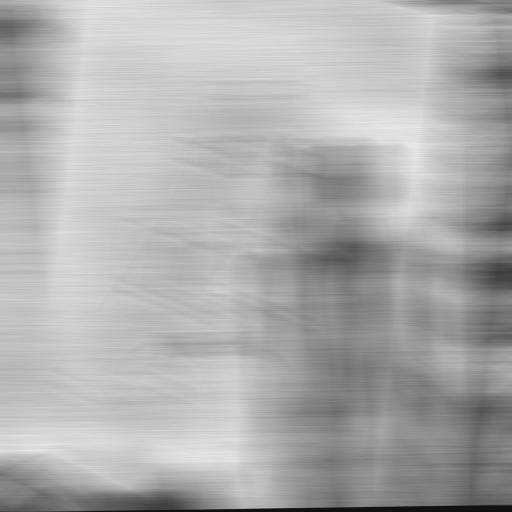eiffel-tower: (58, 5, 402, 487)
top_right: (465, 11, 495, 21)
